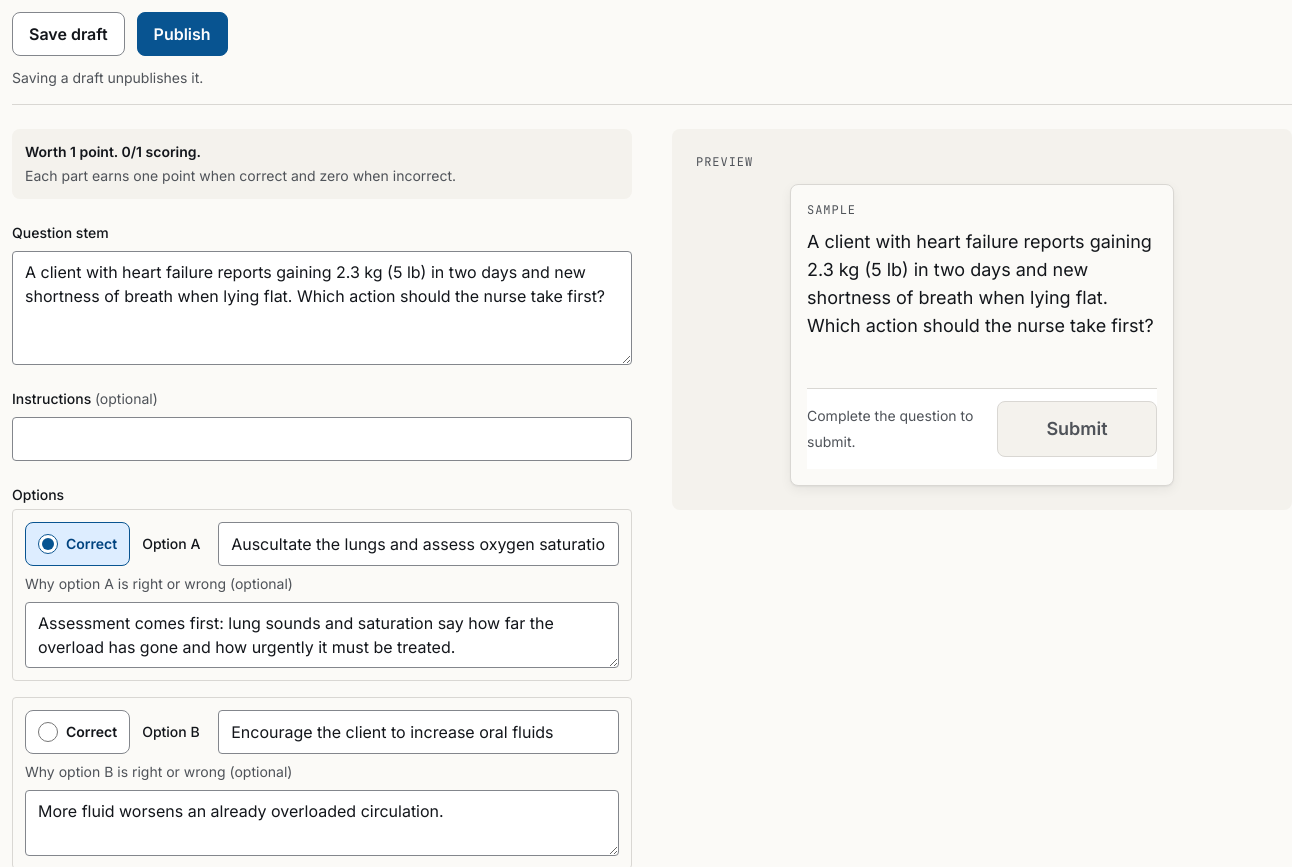
Test case: EditorShell on a published item › says the item is a draft again once saved, and drops the warning
The image size is (1292, 867).
Click the button "Save draft". click: (68,34)
box: [12, 12, 125, 56]
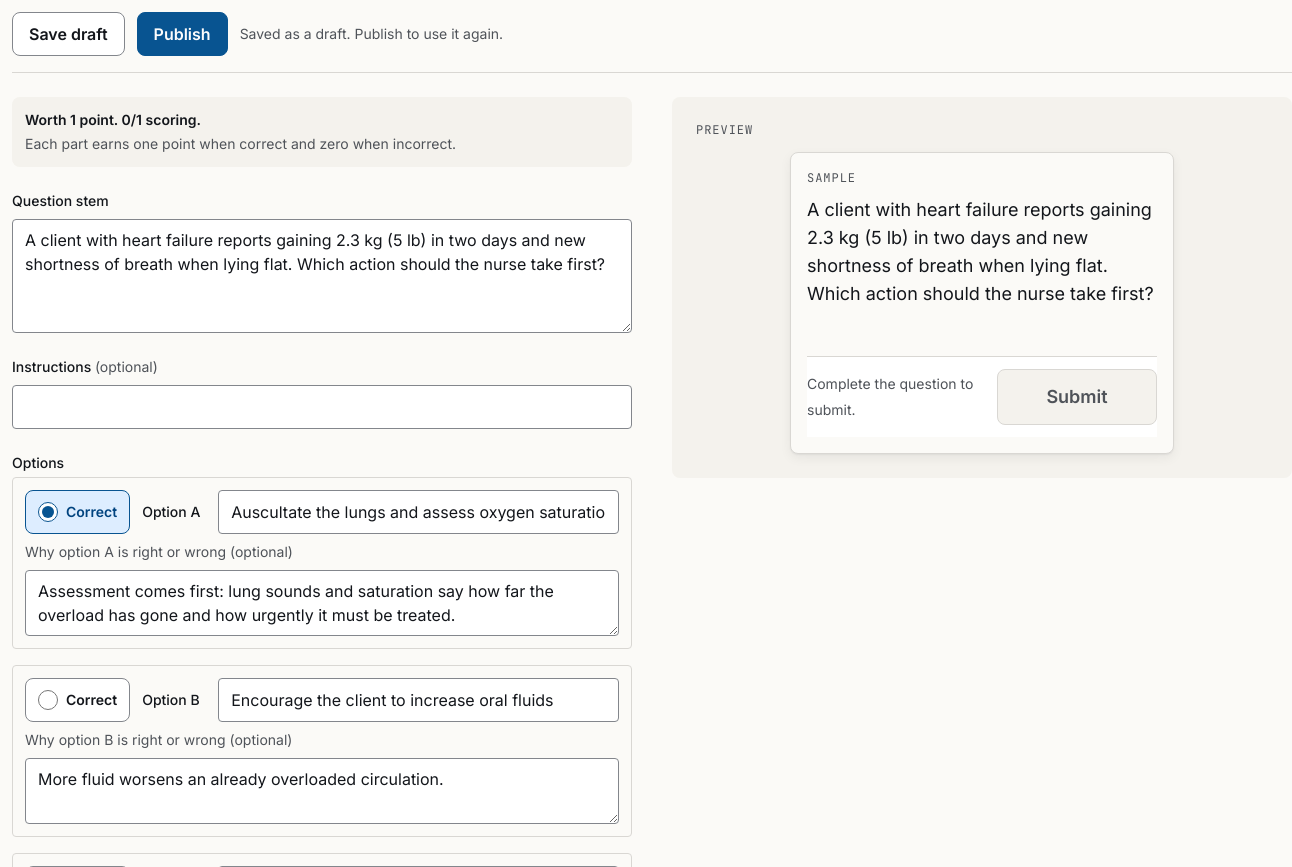
Now the message reads "Saved as a draft. Publish to use it again.", box [240, 25, 503, 42]
Now the text "Saving a draft unpublishes it." is gone
